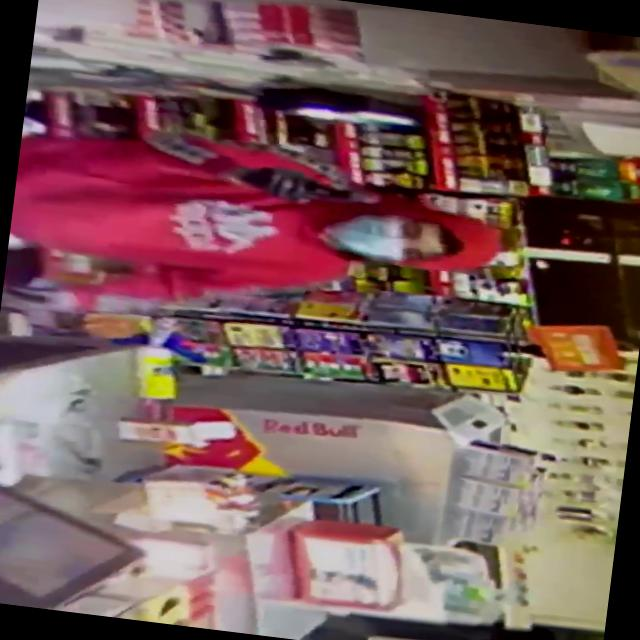handgun: (243, 162, 375, 218)
